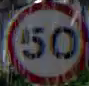Speed limit: (7, 0, 88, 82)
